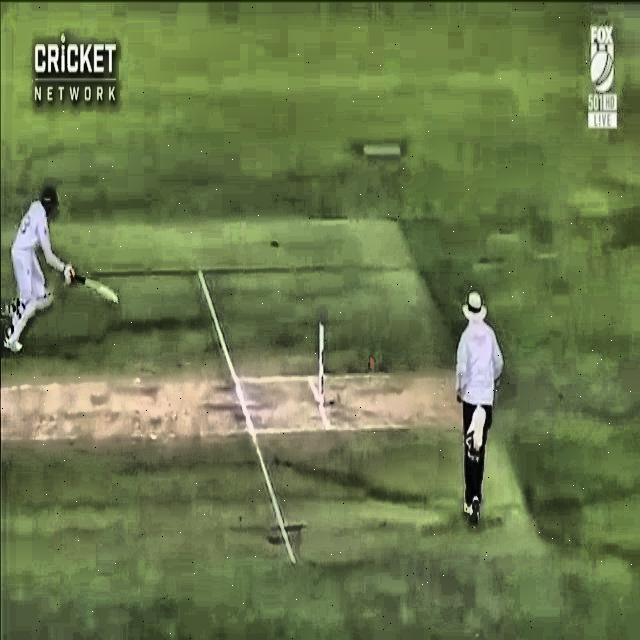Ball: (358, 345, 385, 375)
Bat: (57, 262, 120, 310)
Pitch_Line: (194, 271, 300, 564)
Undis_Wicket: (308, 313, 337, 411)
